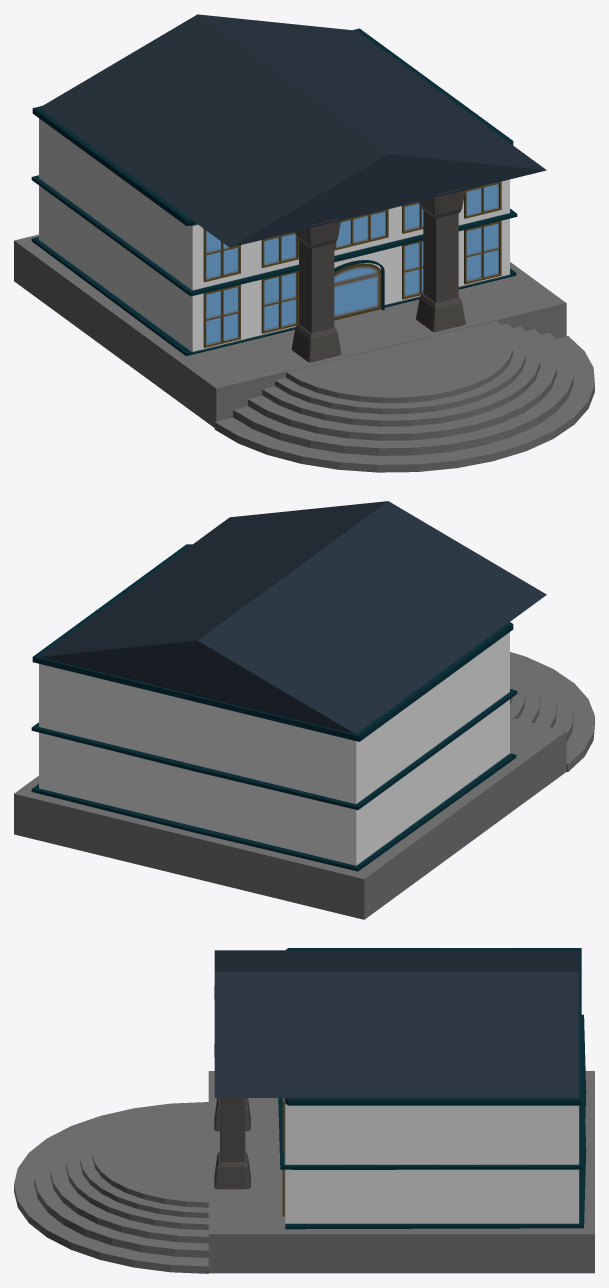
The model's file is Park Houes.fbx.
The picture shows the model from 3 angles, top to bottom: view 1: azimuth 30°, elevation 25°; view 2: azimuth 150°, elevation 25°; view 3: azimuth 270°, elevation 25°; orthographic projection. The views are drawn at different scales.
Visible parts, largest first — view 1: PArk houes; view 2: PArk houes; view 3: PArk houes.
Boxes of the visible parts, left/top/right/bottom form: PArk houes: left=14, top=14, right=594, bottom=472; PArk houes: left=14, top=501, right=594, bottom=919; PArk houes: left=14, top=948, right=594, bottom=1273.
Bounding box in the file's own units: 13378 × 8330 × 19955.
9 materials, 8 textured.
